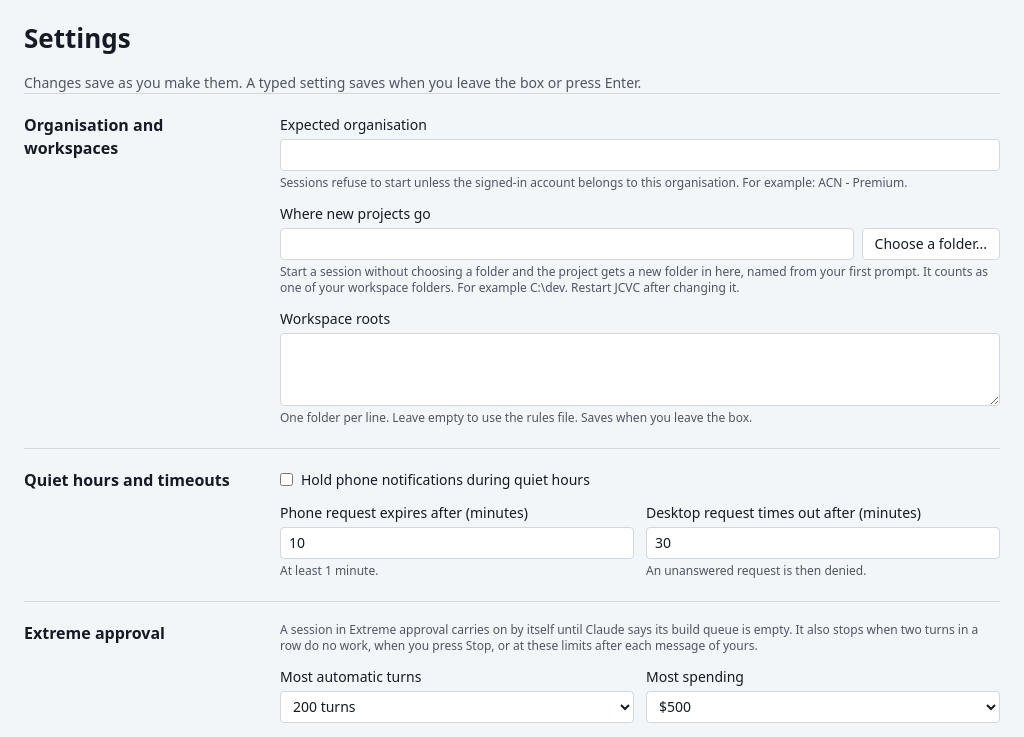
Test case: a setting that needs a restart › offers Restart now, says open sessions stop, and restarts when asked
This screenshot has width=1024, height=737.
Type "C:\\dev" into the field labelled "Where new projects go".
click(567, 244); type("C:\\dev")  # box [280,228,854,260]
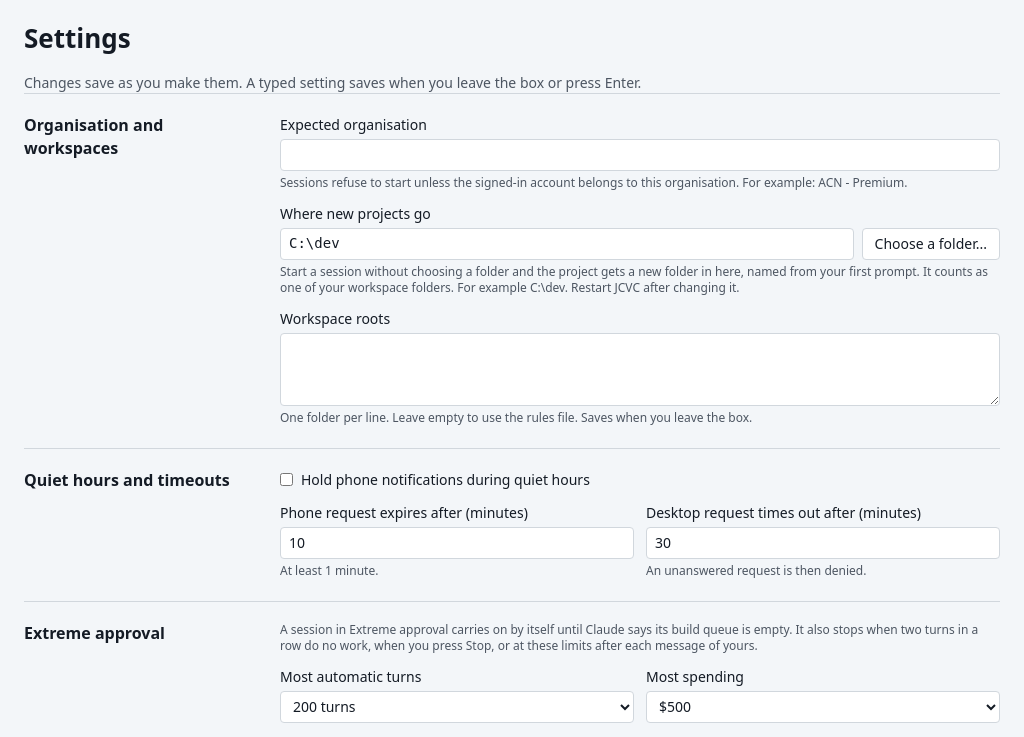
Leave the field labelled "Where new projects go", box [280,228,854,260]
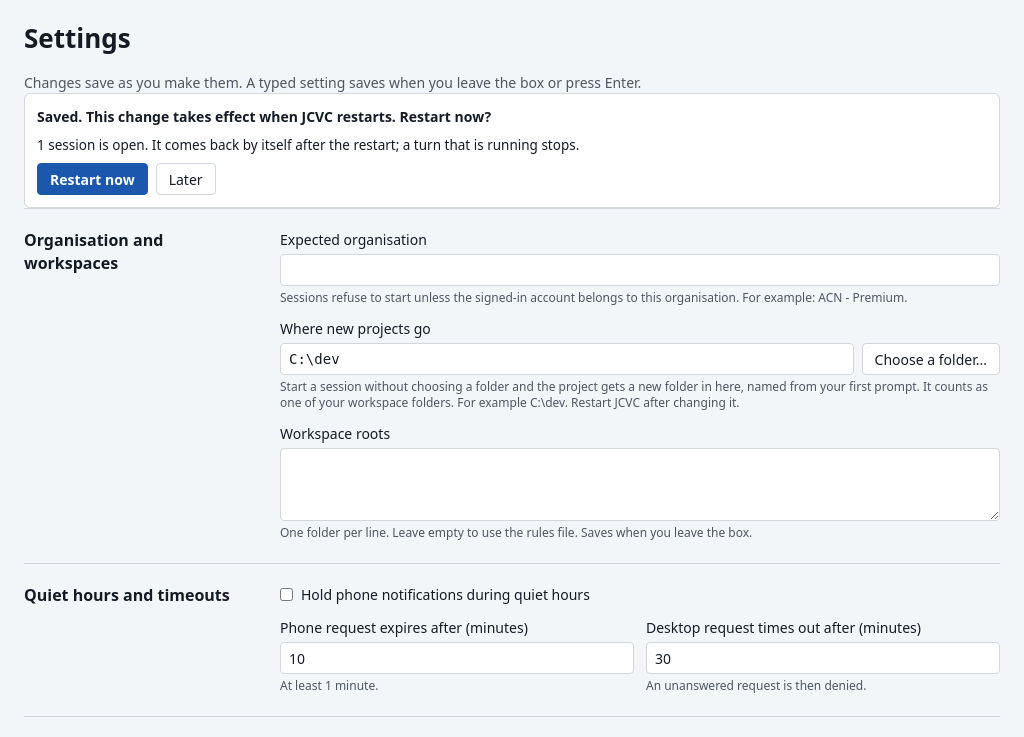
Result: the text "1 session is open" is shown at [37,136,579,154]
Click the button "Restart now".
click(92, 179)  # box [37,163,148,195]
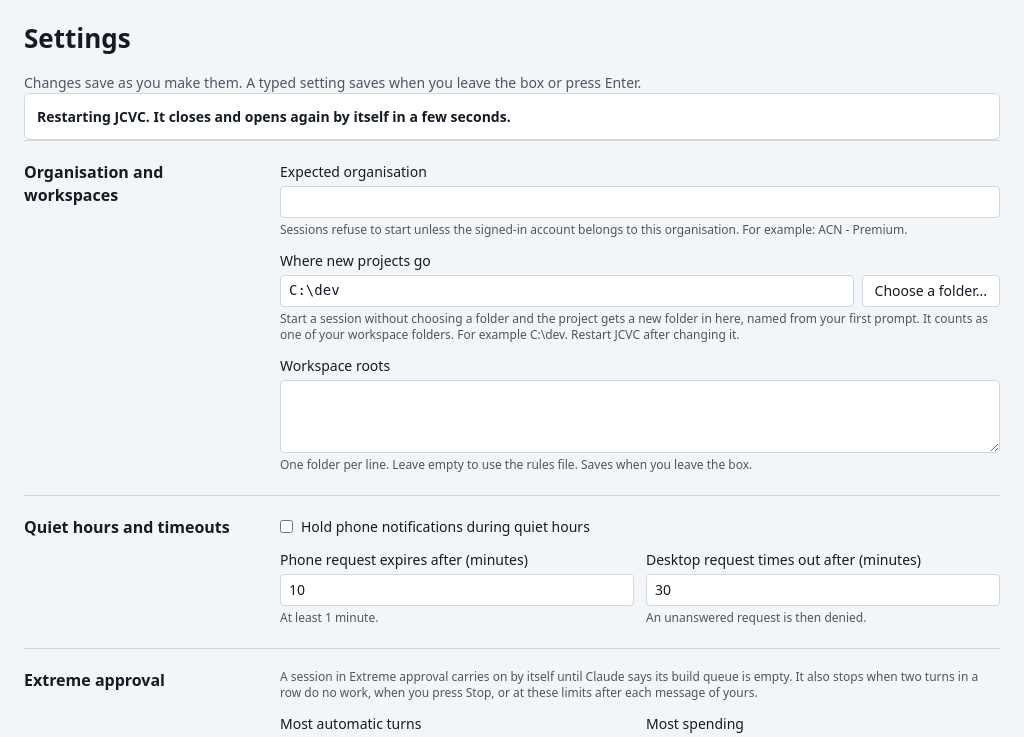
Result: the text "Restarting JCVC. It closes and opens again by itself in a few seconds." is shown at [37,107,511,126]
